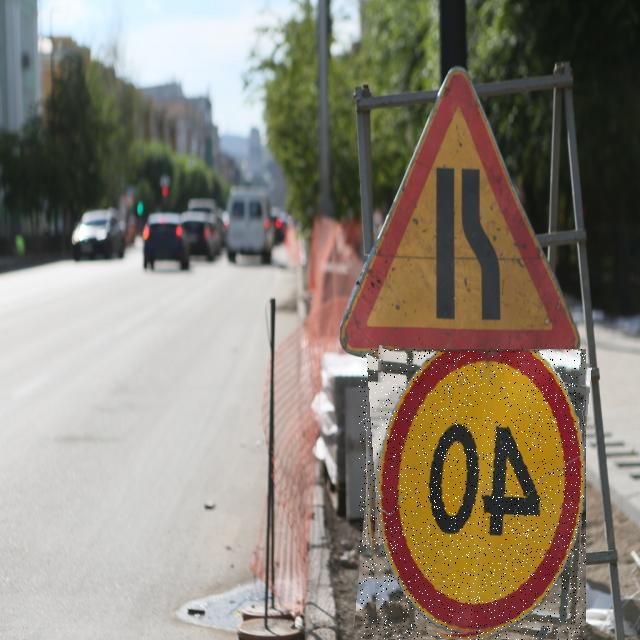speed limit 40: (359, 349, 586, 640)
